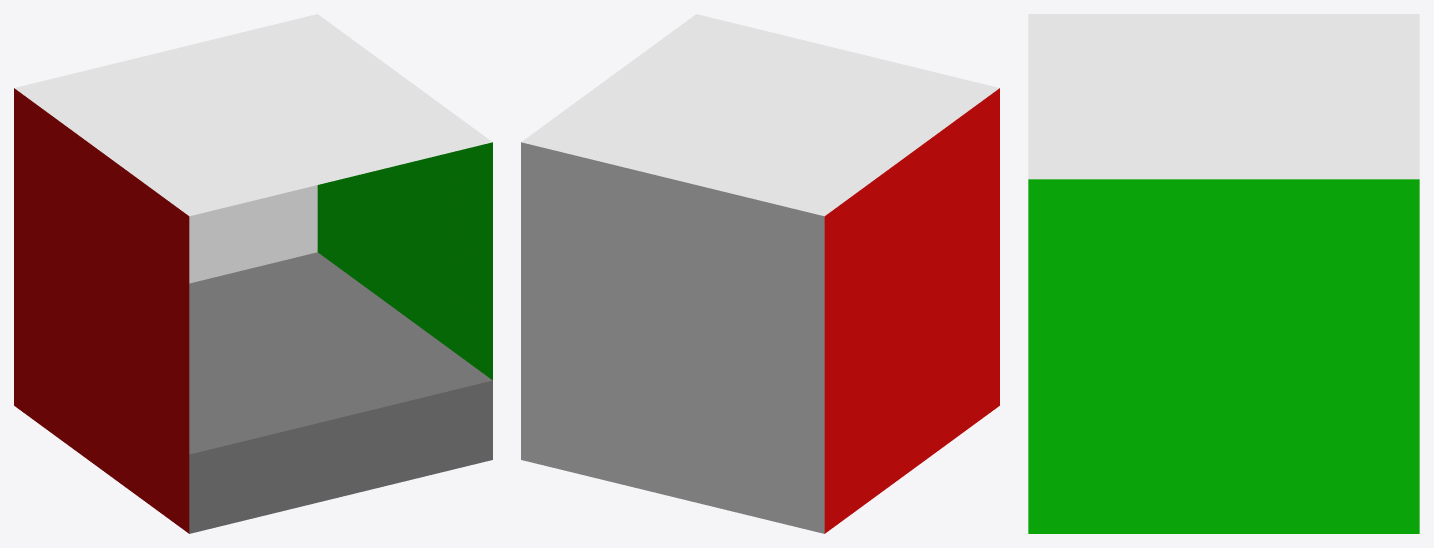
The model's file is cornell-box-flat-dielectric.obj.
The picture shows the model from 3 angles, left to right: view 1: azimuth 30°, elevation 25°; view 2: azimuth 150°, elevation 25°; view 3: azimuth 270°, elevation 25°; orthographic projection. The views are drawn at different scales.
Parts seen in each view (by area): view 1: Box001, leftWall_Mesh, ceiling_Mesh, rightWall_Mesh, frontWall_Mesh; view 2: frontWall_Mesh, leftWall_Mesh, ceiling_Mesh; view 3: rightWall_Mesh, ceiling_Mesh.
Part boxes in pixels (x1,y1,x2,y2): Box001: (189,252,492,533); leftWall_Mesh: (14,88,189,533); ceiling_Mesh: (14,14,492,216); rightWall_Mesh: (317,142,492,380); frontWall_Mesh: (189,185,317,283); frontWall_Mesh: (521,142,824,533); leftWall_Mesh: (824,88,999,533); ceiling_Mesh: (521,14,999,216); rightWall_Mesh: (1028,179,1419,533); ceiling_Mesh: (1028,14,1419,179).
Bounding box in the file's own units: 2 × 2 × 2.
